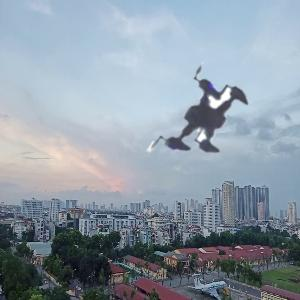drone: (117, 28, 296, 207)
